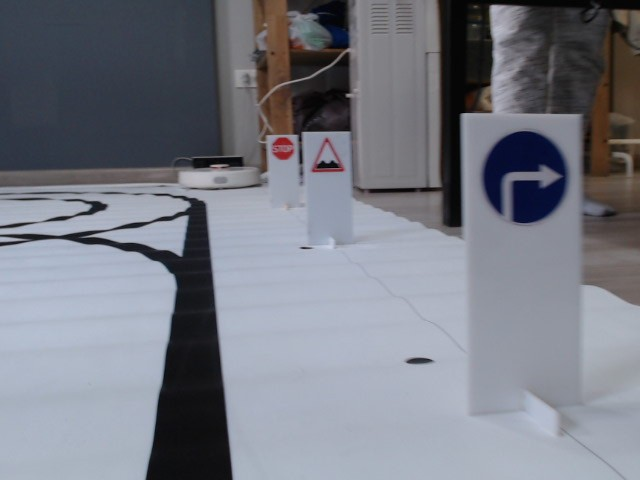Nerov: (311, 139, 344, 175)
Right: (479, 131, 577, 223)
Stop: (271, 137, 297, 159)
